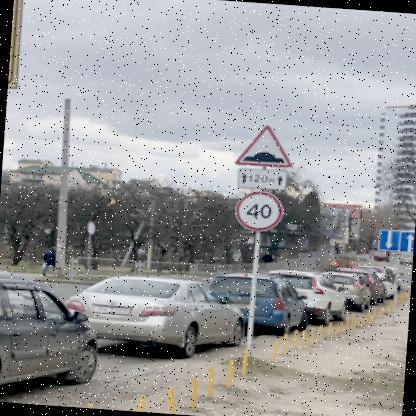speedlimit: (232, 189, 281, 233)
